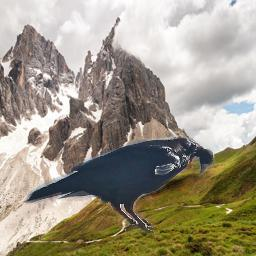Crow: (22, 135, 215, 235)
